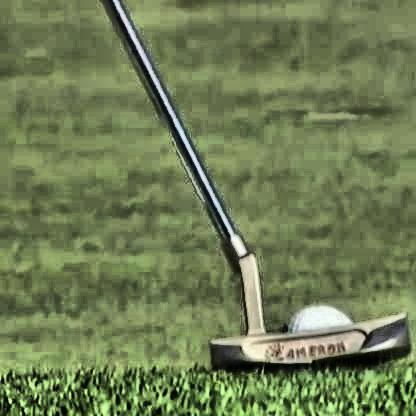golfball: (280, 317, 348, 348)
